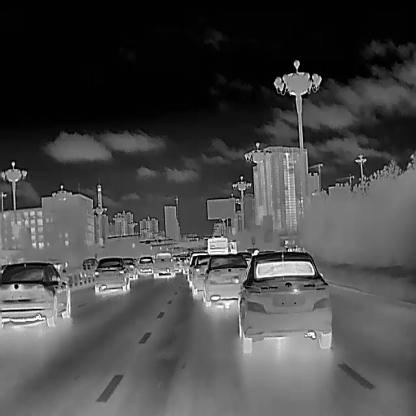bus: (206, 236, 228, 254), (228, 240, 236, 254)
car: (237, 250, 332, 354), (0, 262, 71, 328), (202, 254, 248, 307), (93, 255, 130, 295), (191, 253, 211, 295), (152, 250, 174, 278), (121, 256, 138, 279), (136, 255, 154, 275), (188, 254, 198, 286), (82, 256, 98, 271), (171, 254, 181, 272), (182, 258, 190, 274)
